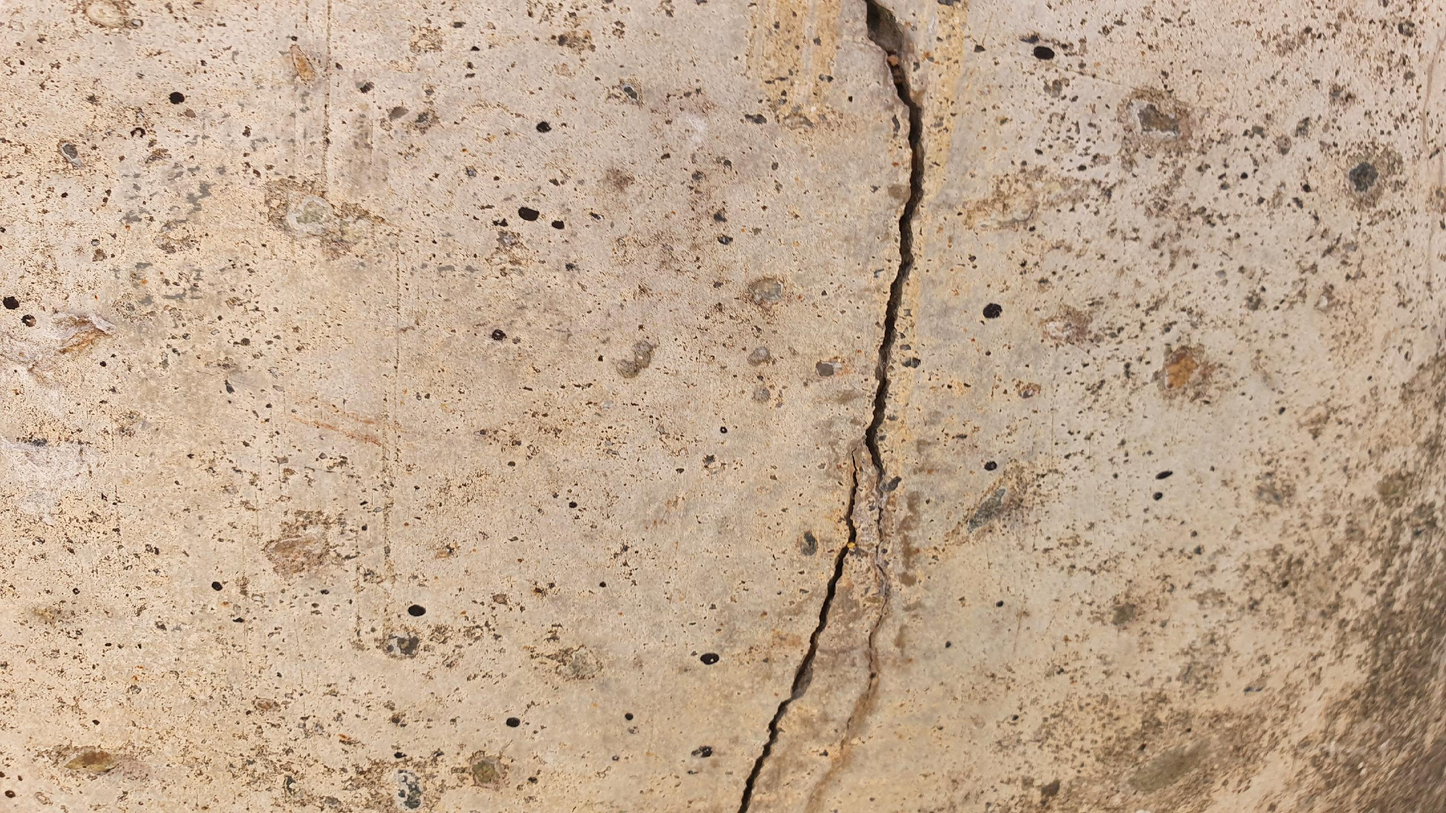crack: (739, 447, 861, 810), (859, 0, 928, 472)
